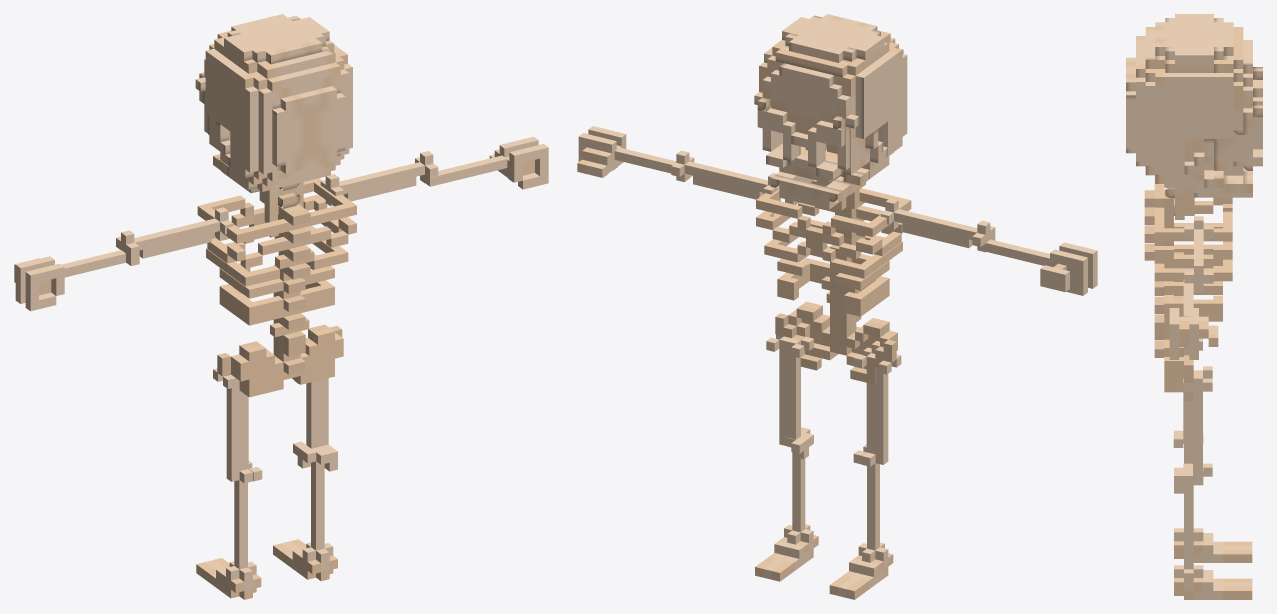
Rendered from sceleton.dae.
3 views of the same model, side by side, from view 1: azimuth 30°, elevation 25°; view 2: azimuth 150°, elevation 25°; view 3: azimuth 270°, elevation 25° (orthographic). The views are drawn at different scales.
Visible parts, largest first — view 1: Head-local, Chest-local, Hip-local, Left_Arm-local, Right_Arm-local, Left_Thigh-local, Left_Hand-local, Belly-local, Right_Hand-local, Right_Leg-local, Right_Thigh-local, Left_Foot-local (+4 smaller); view 2: Head-local, Chest-local, Hip-local, Right_Thigh-local, Left_Thigh-local, Left_Arm-local, Left_Hand-local, Right_Arm-local, Left_Foot-local, Right_Foot-local, Right_Hand-local, Belly-local (+4 smaller); view 3: Head-local, Chest-local, Right_Foot-local, Left_Foot-local, Right_Hand-local, Right_Thigh-local, Hip-local, Right_Leg-local, Right_Arm-local, Belly-local, Left_Thigh-local, Right_Forearm-local (+1 smaller).
Part boxes in pixels (bbox=[...]): Head-local: bbox=[195, 14, 352, 222]; Chest-local: bbox=[197, 178, 356, 316]; Hip-local: bbox=[217, 324, 343, 397]; Left_Arm-local: bbox=[116, 207, 233, 258]; Right_Arm-local: bbox=[320, 151, 438, 206]; Left_Thigh-local: bbox=[213, 368, 262, 481]; Left_Hand-local: bbox=[14, 256, 64, 311]; Belly-local: bbox=[219, 284, 334, 347]; Right_Hand-local: bbox=[489, 136, 548, 189]; Right_Leg-local: bbox=[297, 444, 337, 550]; Right_Thigh-local: bbox=[293, 378, 328, 463]; Left_Foot-local: bbox=[196, 558, 261, 599]; Head-local: bbox=[754, 14, 907, 210]; Chest-local: bbox=[756, 180, 911, 307]; Hip-local: bbox=[775, 301, 897, 384]; Right_Thigh-local: bbox=[766, 334, 813, 453]; Left_Thigh-local: bbox=[853, 347, 901, 464]; Left_Arm-local: bbox=[880, 198, 990, 252]; Left_Hand-local: bbox=[1040, 242, 1097, 295]; Right_Arm-local: bbox=[671, 150, 780, 201]; Left_Foot-local: bbox=[829, 542, 893, 599]; Right_Foot-local: bbox=[755, 524, 818, 581]; Right_Hand-local: bbox=[577, 126, 626, 177]; Belly-local: bbox=[777, 272, 889, 320]; Head-local: bbox=[1126, 14, 1262, 219]; Chest-local: bbox=[1144, 175, 1232, 312]; Right_Foot-local: bbox=[1174, 565, 1252, 599]; Left_Foot-local: bbox=[1174, 528, 1252, 562]; Right_Hand-local: bbox=[1169, 308, 1218, 359]; Right_Thigh-local: bbox=[1183, 366, 1212, 484]; Hip-local: bbox=[1154, 331, 1193, 401]; Right_Leg-local: bbox=[1174, 463, 1203, 569]; Right_Arm-local: bbox=[1184, 216, 1213, 292]; Belly-local: bbox=[1154, 287, 1222, 331]; Left_Thigh-local: bbox=[1173, 338, 1202, 447]; Right_Forearm-local: bbox=[1183, 270, 1203, 316].
Bounding box in the file's own units: 60.5 × 61.05 × 14.
